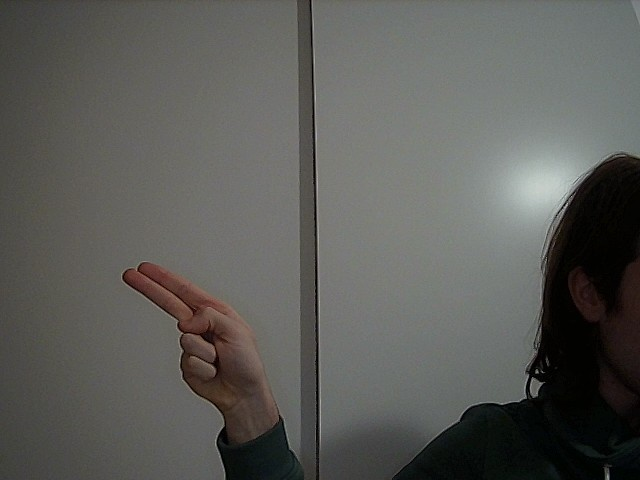h: (118, 244, 292, 416)
